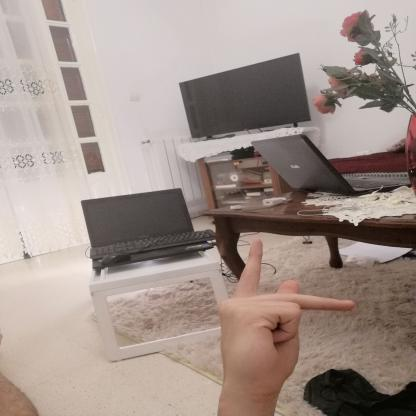DHAA: (204, 228, 364, 400)
